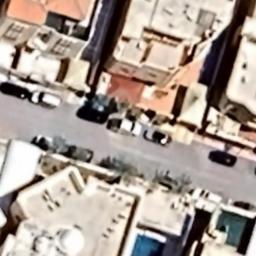pickup: (110, 114, 142, 138)
unknown: (202, 144, 242, 171), (0, 78, 30, 104), (74, 104, 109, 126)
van: (32, 89, 64, 113)
